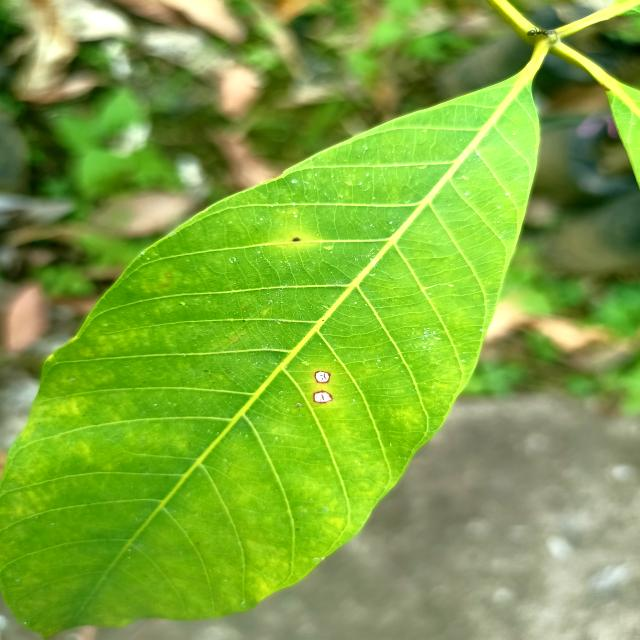Colletotrichum: (313, 391, 333, 404), (314, 371, 331, 384)
